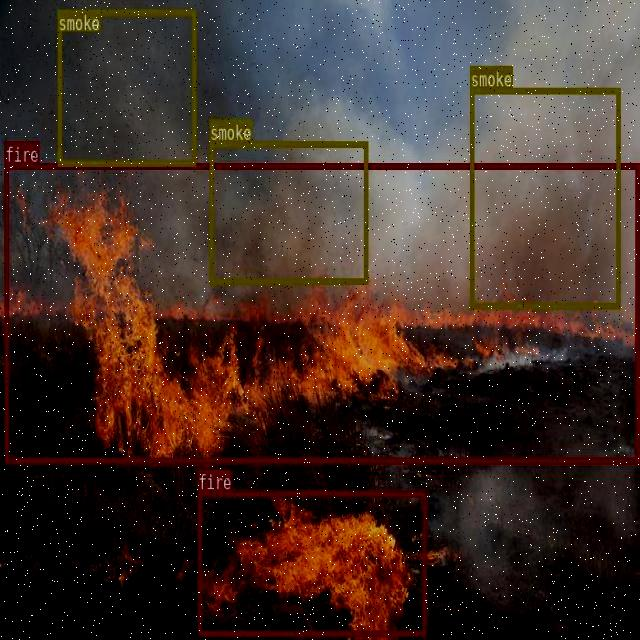fire: (4, 163, 638, 462), (197, 490, 426, 635)
smoke: (469, 86, 619, 308), (209, 140, 367, 282), (57, 9, 195, 165)
